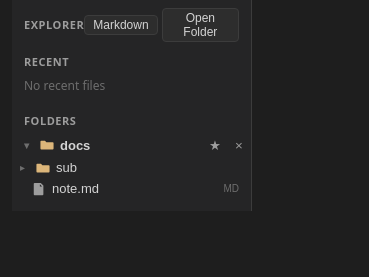
Test: Explorer context menu (plan 03 task 3.6, issue #44) › a failing fs command lands in the section error line
The width and height of the screenshot is (369, 277).
Step 1. Right-click the button "▸ sub" → (132, 168), box [12, 157, 251, 178]
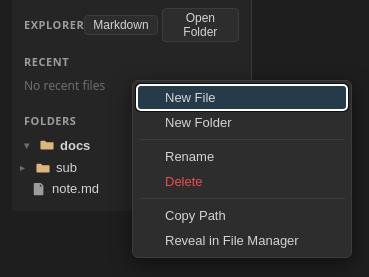
Step 2. Click the menu item with aria-label "New File" → (242, 98), box [137, 85, 347, 110]
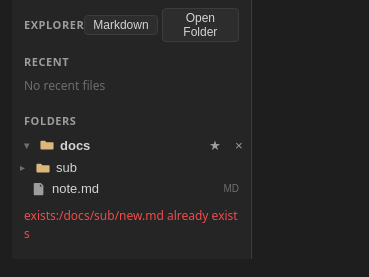
Now the text "exists:/docs/sub/new.md already exists" is shown, box [12, 203, 251, 247]
